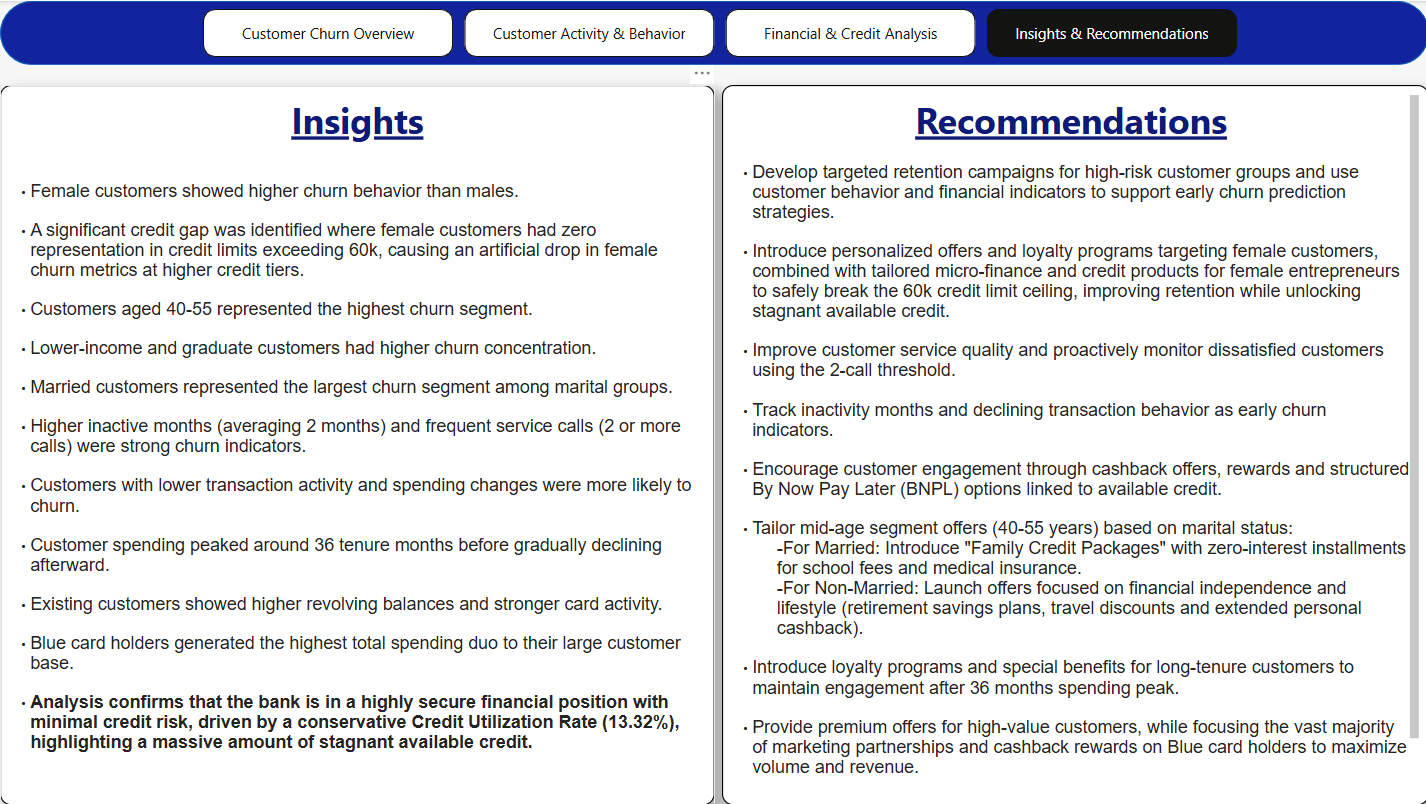

This screenshot's page, from the dashboard's own definition file:
{"tool":"powerbi","page":{"name":"Insights & Recommendations","canvas":[1280,720],"ordinal":3},"visuals":[{"type":"textbox","box":[0,74.9,640,644.9],"z":0},{"type":"textbox","box":[646.8,74.9,633.2,644.9],"z":1000},{"type":"shape","box":[0,0,1280,57.4],"z":2000},{"type":"pageNavigator","box":[181.9,6.8,928.9,43.8],"z":3000}]}

Visuals, with their boxes in screenshot pixels (x1, y1, x2, y2), scaled from the page's 1280x720 canvas onto the 1426x804 screenshot:
textbox: <region>0, 84, 713, 803</region>
textbox: <region>721, 84, 1425, 803</region>
shape: <region>0, 0, 1425, 64</region>
pageNavigator: <region>203, 8, 1238, 57</region>
